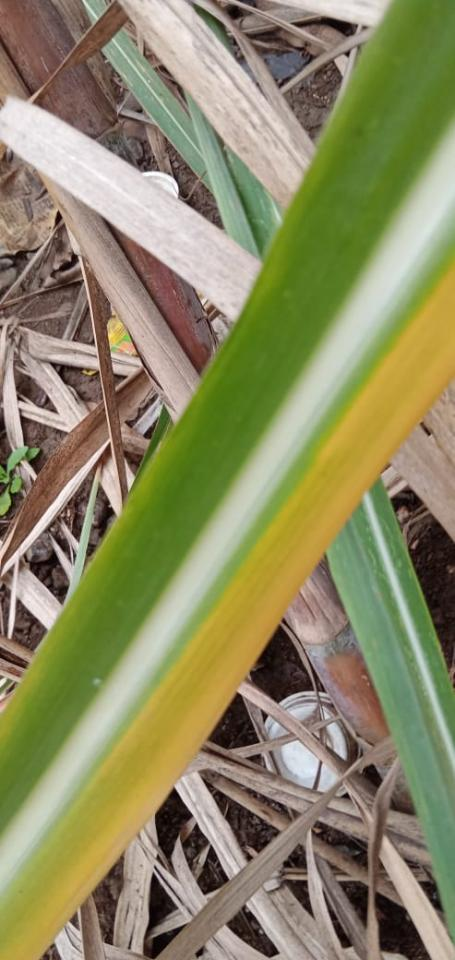Yellow: (0, 264, 454, 959)
